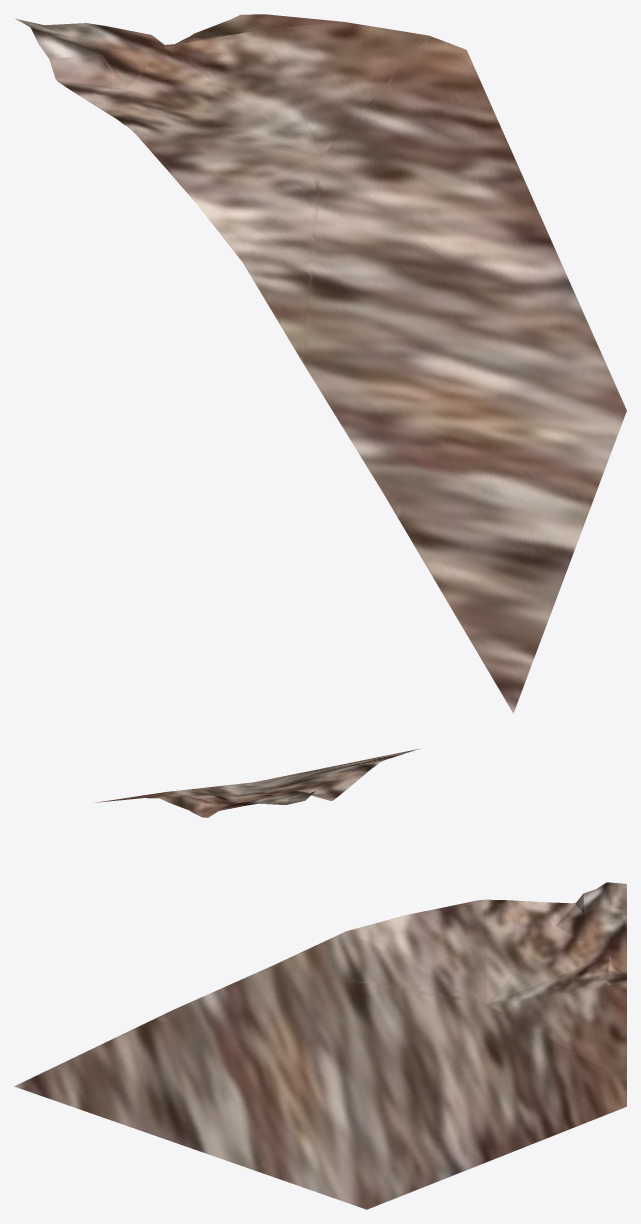
The picture shows the model from 3 angles, top to bottom: view 1: azimuth 30°, elevation 25°; view 2: azimuth 150°, elevation 25°; view 3: azimuth 270°, elevation 25°; orthographic projection. The views are drawn at different scales.
Bounding box in the file's own units: 1.44 × 1.03 × 2.76.
1 material, 1 textured.
